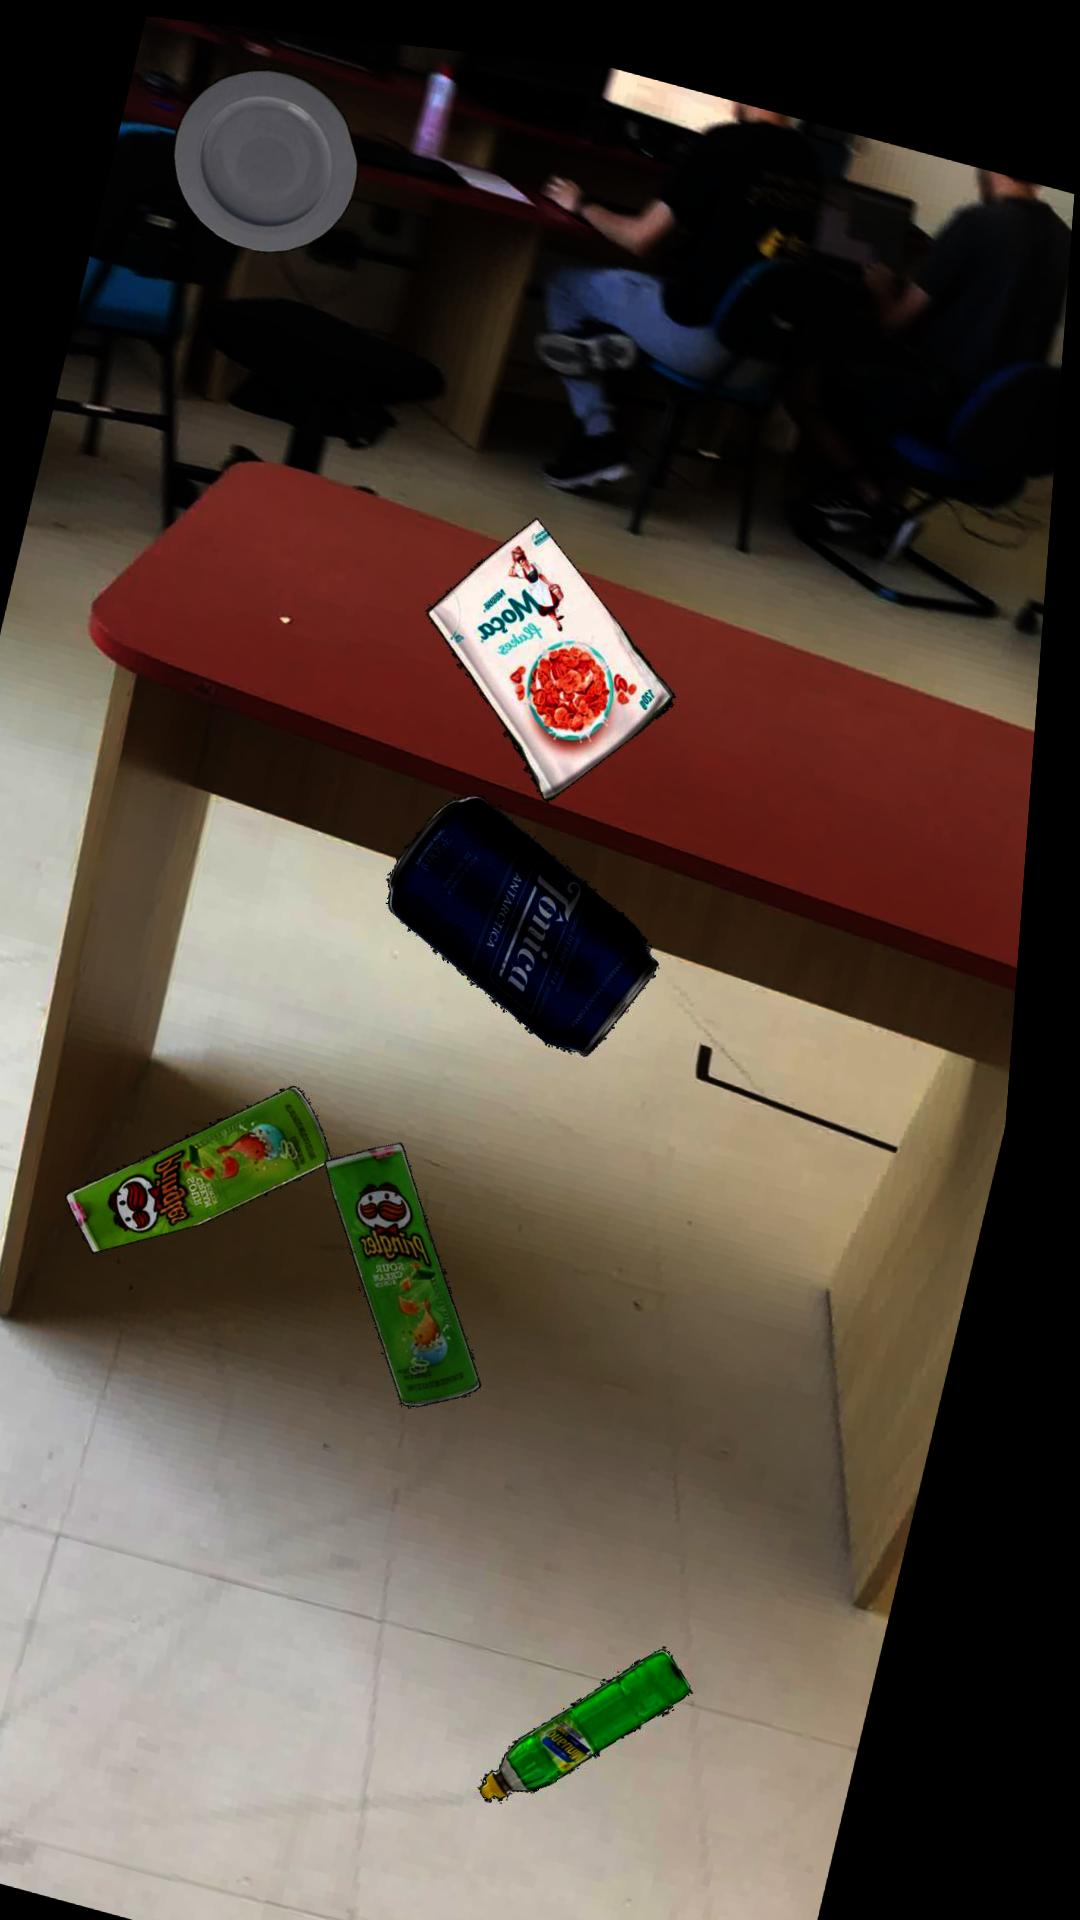cleaner: (508, 1630, 717, 1785)
corn flakes: (438, 502, 687, 786)
plate: (175, 61, 361, 245)
pringles: (86, 1076, 351, 1247), (343, 1130, 504, 1394)
tonic: (401, 781, 674, 1040)
